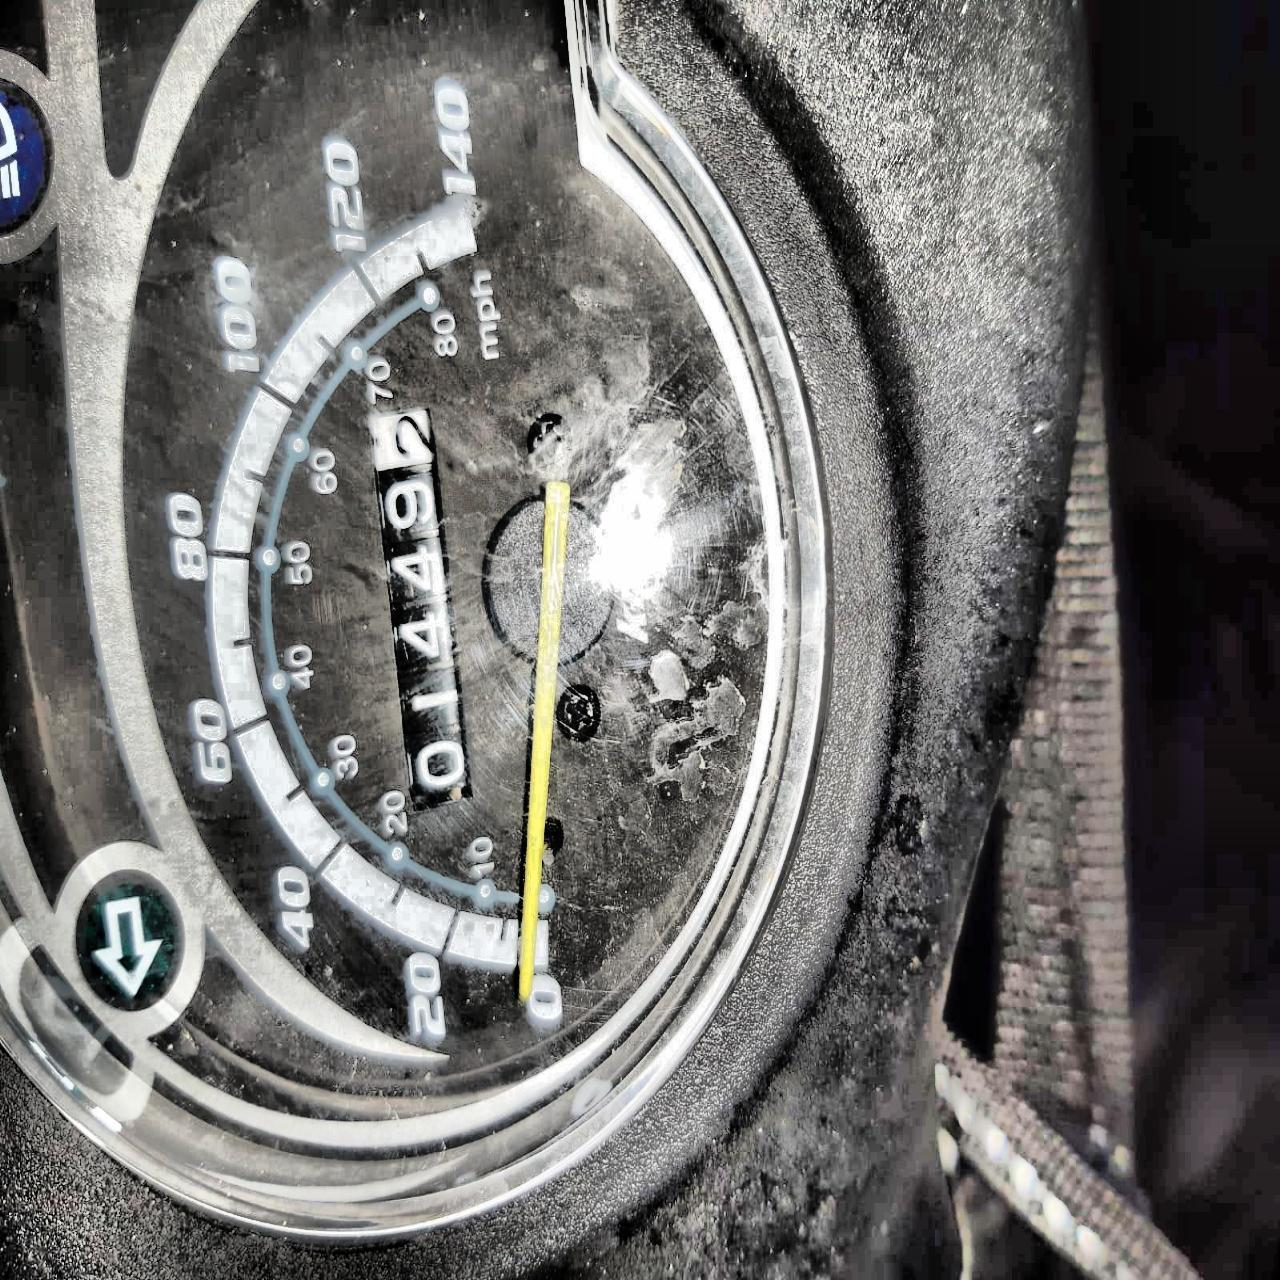0: (415, 733, 467, 791), (381, 787, 407, 811)
1: (404, 679, 465, 717)
2: (393, 407, 436, 461)
4: (388, 537, 443, 590), (397, 606, 448, 659)
9: (386, 475, 435, 531)
odometer: (360, 403, 484, 815)
